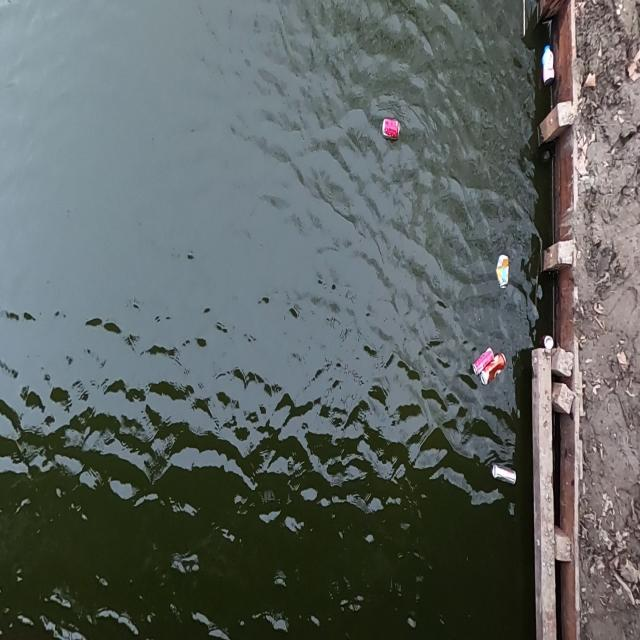Non plastique: (475, 343, 512, 406), (462, 335, 500, 382), (488, 247, 515, 291), (489, 456, 520, 494), (379, 105, 406, 148)
